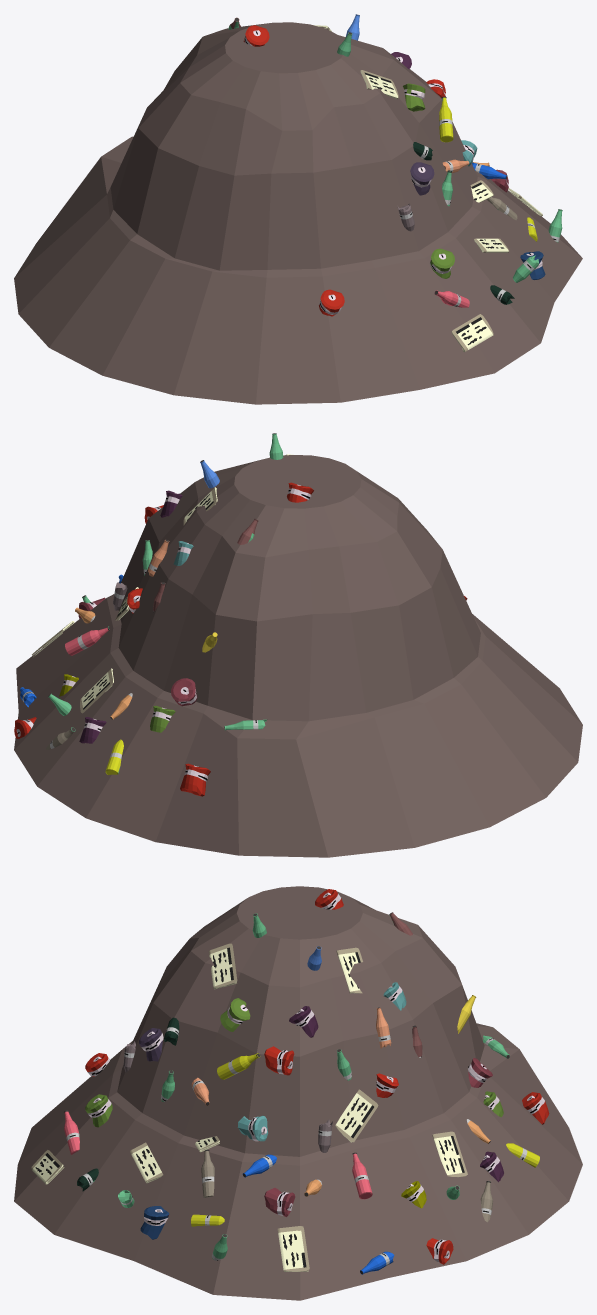
File: gora.fbx
3 renders of one model, top to bottom at view 1: azimuth 30°, elevation 25°; view 2: azimuth 150°, elevation 25°; view 3: azimuth 270°, elevation 25°, orthographic. The views are drawn at different scales.
Parts seen in each view (by area): view 1: sas, bymaga.008, banka myztayz.002, banka myztayz.004, bymaga.005, banka myztayz.003, butilka.009, banka myztayz.013; view 2: sas, banka myztayz.007, banka myztayz.016, bymaga.003, butilka.001; view 3: sas, bymaga.006, bymaga.007, bymaga.003, bymaga.005, bymaga.002, banka myztayz.012, banka myztayz.001, banka myztayz.011, bymaga.004, bymaga.008, banka myztayz.013 (+7 smaller).
Part boxes in pixels (x1=…): sas: x1=14, y1=22, x2=582, y2=404; bymaga.008: x1=451, y1=314, x2=493, y2=352; banka myztayz.002: x1=410, y1=162, x2=434, y2=195; banka myztayz.004: x1=430, y1=248, x2=454, y2=278; bymaga.005: x1=360, y1=70, x2=398, y2=98; banka myztayz.003: x1=319, y1=289, x2=344, y2=316; butilka.009: x1=439, y1=96, x2=453, y2=142; banka myztayz.013: x1=403, y1=83, x2=425, y2=111; sas: x1=14, y1=455, x2=582, y2=857; banka myztayz.007: x1=180, y1=763, x2=210, y2=796; banka myztayz.016: x1=171, y1=678, x2=197, y2=706; bymaga.003: x1=80, y1=668, x2=113, y2=713; butilka.001: x1=65, y1=626, x2=109, y2=655; sas: x1=14, y1=886, x2=582, y2=1300; bymaga.006: x1=277, y1=1226, x2=309, y2=1271; bymaga.007: x1=335, y1=1089, x2=378, y2=1142; bymaga.003: x1=432, y1=1131, x2=467, y2=1177; bymaga.005: x1=208, y1=943, x2=237, y2=989; bymaga.002: x1=130, y1=1142, x2=163, y2=1183; banka myztayz.012: x1=264, y1=1046, x2=294, y2=1075; banka myztayz.001: x1=140, y1=1206, x2=169, y2=1239; banka myztayz.011: x1=264, y1=1188, x2=295, y2=1216; bymaga.004: x1=336, y1=947, x2=362, y2=993; bymaga.008: x1=31, y1=1150, x2=64, y2=1184; banka myztayz.013: x1=220, y1=998, x2=250, y2=1031.
Size of the model in its own units: 1101 by 554 by 1036.
